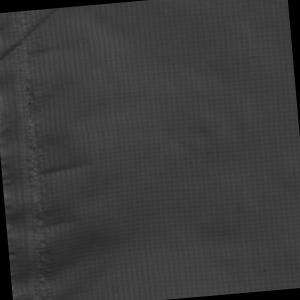Wrinkle: (5, 195, 125, 300), (1, 7, 71, 75), (26, 154, 97, 188)
